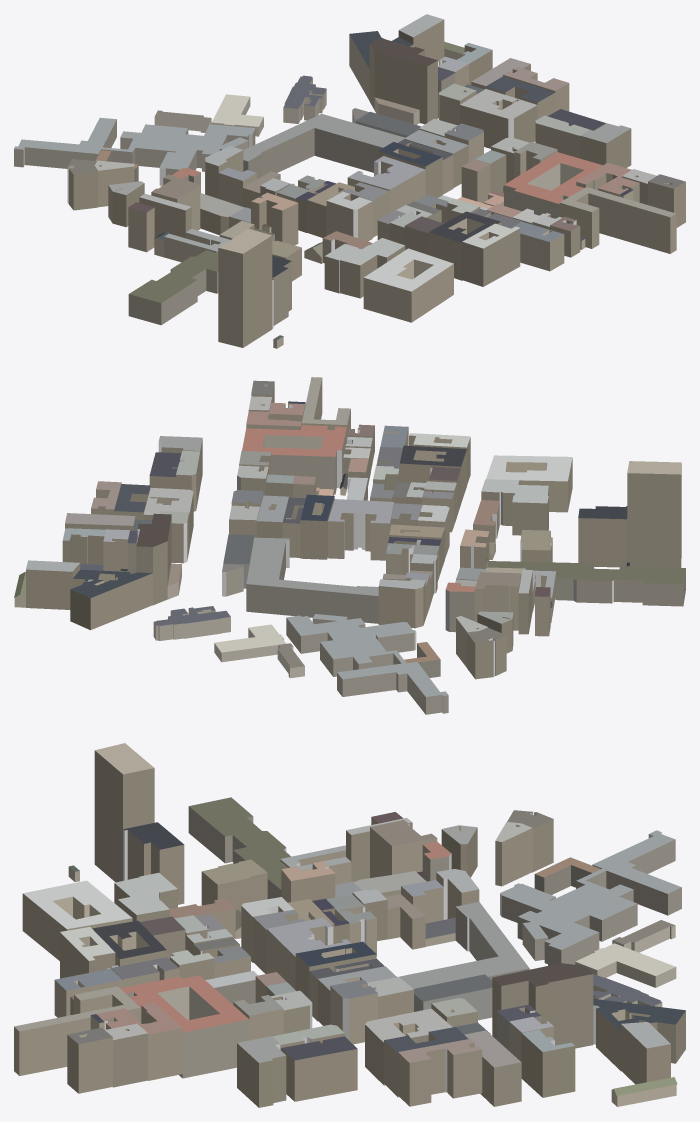
The picture shows the model from 3 angles, top to bottom: view 1: azimuth 30°, elevation 25°; view 2: azimuth 150°, elevation 25°; view 3: azimuth 270°, elevation 25°; orthographic projection. The views are drawn at different scales.
Visible parts, largest first — view 1: tuile; view 2: tuile; view 3: tuile.
Part boxes in pixels (x1=…): tuile: x1=14, y1=14, x2=685, y2=348; tuile: x1=14, y1=377, x2=685, y2=714; tuile: x1=14, y1=743, x2=685, y2=1107.
Bounding box in the file's own units: 302 × 52.95 × 282.
